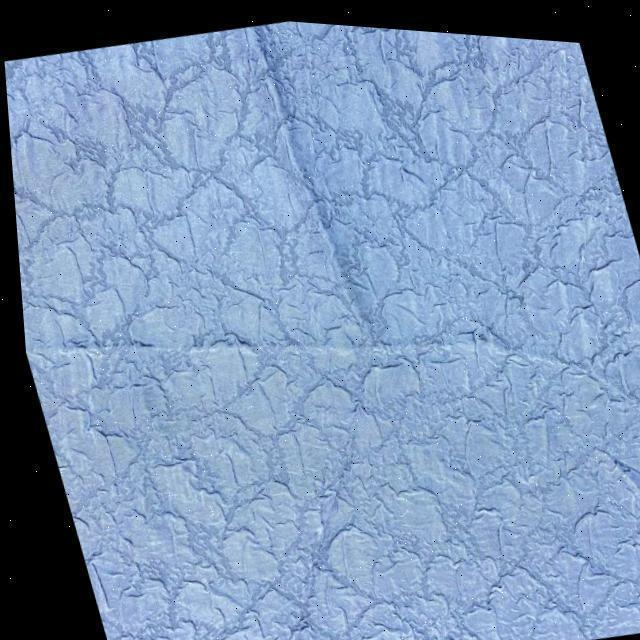broken_yarn: (244, 26, 366, 342), (28, 324, 568, 356)
